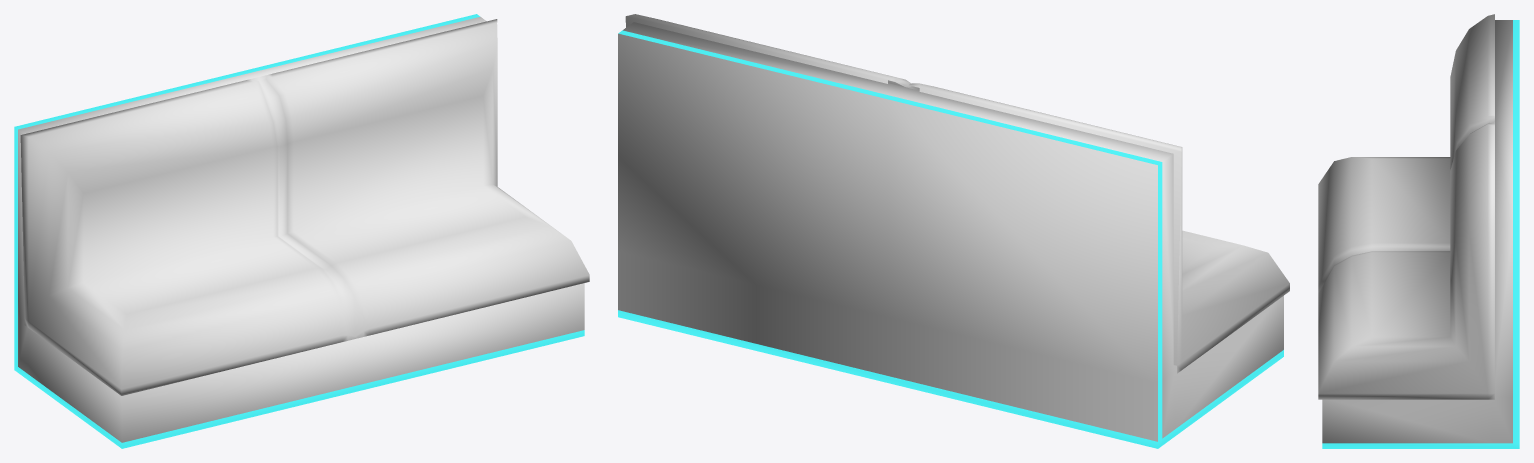
Rendered from sofa.glb.
3 renders of one model, left to right at view 1: azimuth 30°, elevation 25°; view 2: azimuth 150°, elevation 25°; view 3: azimuth 270°, elevation 25°, orthographic. The views are drawn at different scales.
Visible parts, largest first — view 1: sofa; view 2: sofa; view 3: sofa.
Part boxes in pixels (<box>): sofa: <box>14,14,589,448</box>; sofa: <box>618,14,1289,448</box>; sofa: <box>1318,14,1519,448</box>.
Size of what is drawn, in the model's own units: 2.39 by 1.18 by 0.9584.
